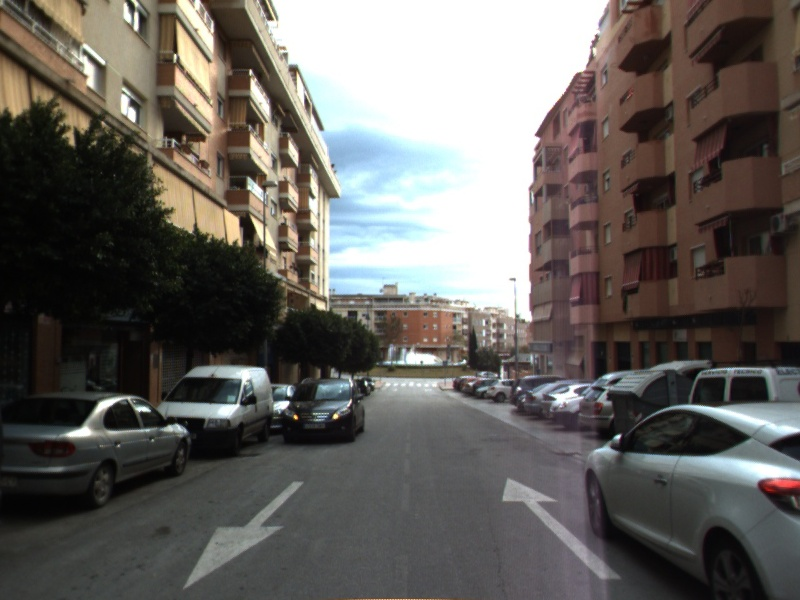STRAIGHT: (499, 473, 625, 582)
